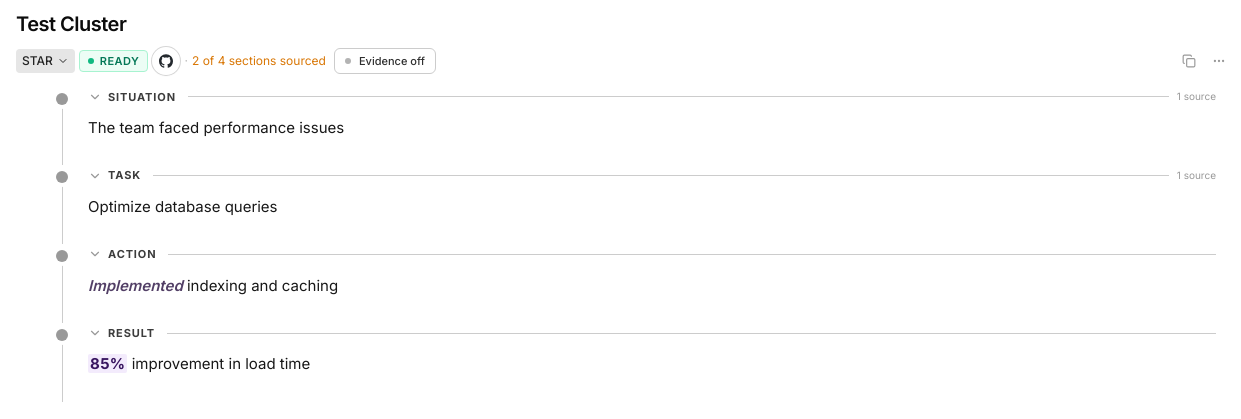
NarrativePreview › Source Margin Toggle › toggles aria-pressed between off and on when clicked
This screenshot has width=1241, height=419.
Click the button with aria-label "Toggle evidence view" at [385, 60], box [334, 48, 436, 74]
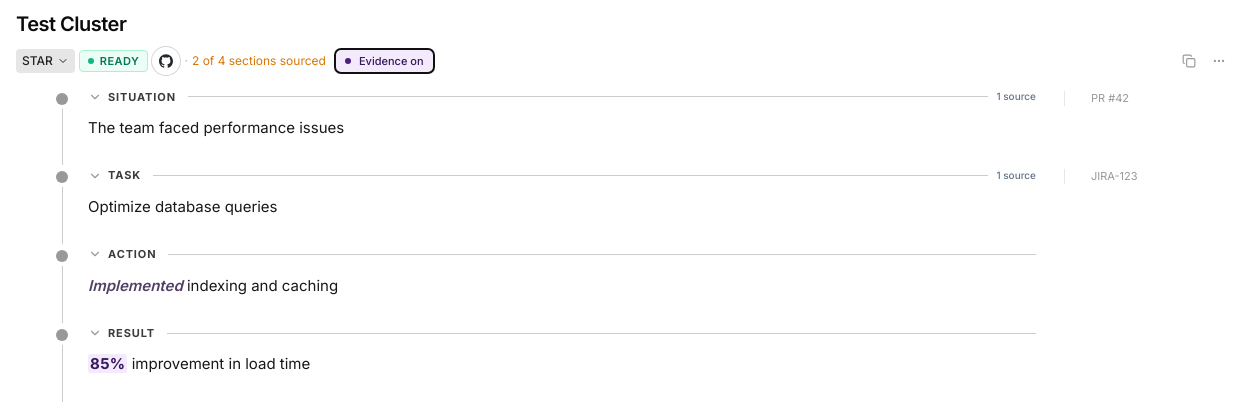
expect the button with aria-label "Toggle evidence view" reads "Evidence on": met, box [334, 48, 434, 74]
